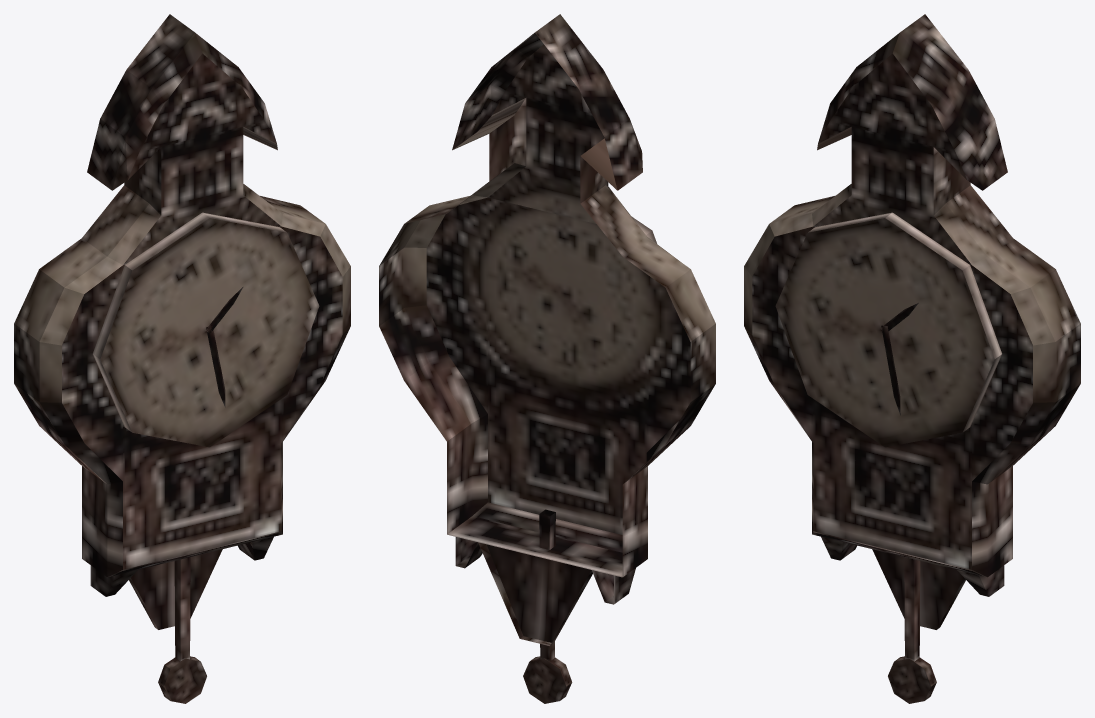
Rendered from RusticClock01.obj.
3 renders of one model, left to right at view 1: azimuth 30°, elevation 25°; view 2: azimuth 150°, elevation 25°; view 3: azimuth 330°, elevation 25°, orthographic.
Parts seen in each view (by area): view 1: RusticClock01, PointerMinute; view 2: RusticClock01; view 3: RusticClock01, PointerMinute.
Boxes of the visible parts, x1,y1,x2,y2 form: RusticClock01: [14, 14, 350, 703]; PointerMinute: [206, 326, 225, 407]; RusticClock01: [379, 14, 715, 703]; RusticClock01: [744, 14, 1080, 703]; PointerMinute: [881, 325, 900, 415].
Bounding box in the file's own units: 2.39 × 4.97 × 0.5326.
